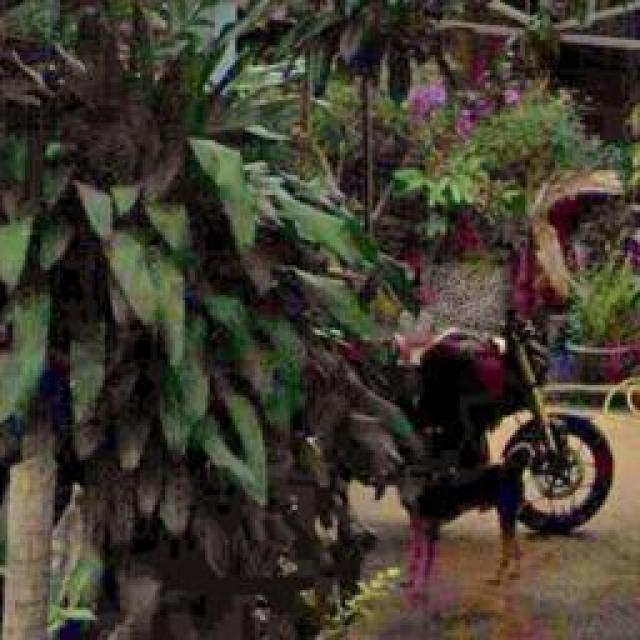motorcycle: (398, 310, 612, 535)
